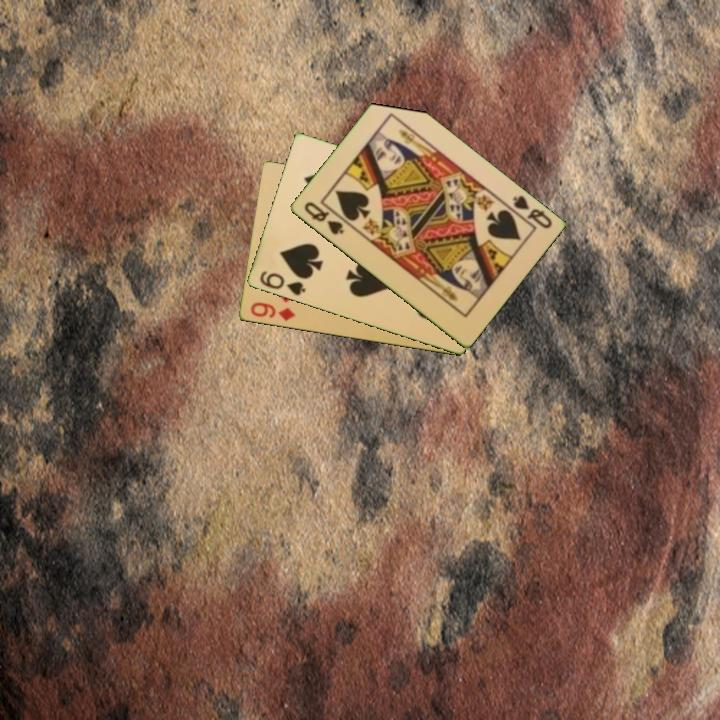6s: (256, 267, 308, 299)
9d: (247, 299, 298, 324)
Qs: (300, 198, 347, 238), (509, 192, 555, 232)
